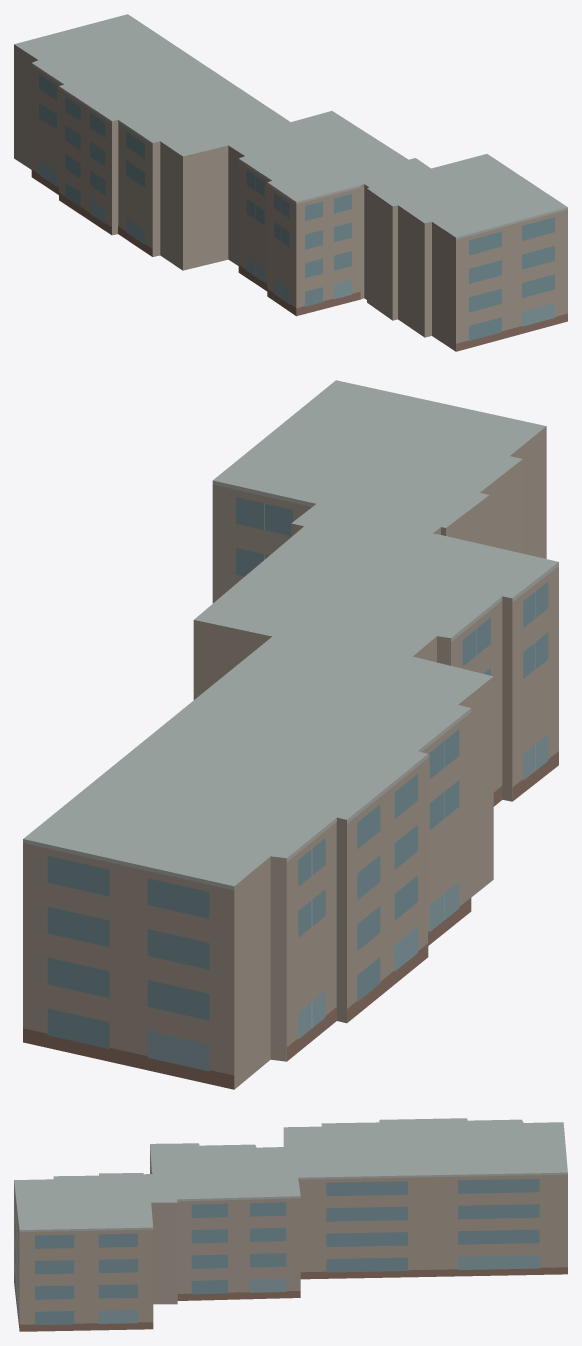
Rendered from survey-upis-32635488.glb.
3 renders of one model, top to bottom at view 1: azimuth 30°, elevation 25°; view 2: azimuth 150°, elevation 25°; view 3: azimuth 270°, elevation 25°, orthographic. The views are drawn at different scales.
Visible parts, largest first — view 1: survey-upis-32635488.tmp; view 2: survey-upis-32635488.tmp; view 3: survey-upis-32635488.tmp.
Part boxes in pixels (x1,y1,x2,y2): survey-upis-32635488.tmp: [14, 14, 567, 351]; survey-upis-32635488.tmp: [23, 380, 558, 1089]; survey-upis-32635488.tmp: [14, 1118, 567, 1331].
Size of the model in its own units: 28.81 by 12.2 by 60.23.
